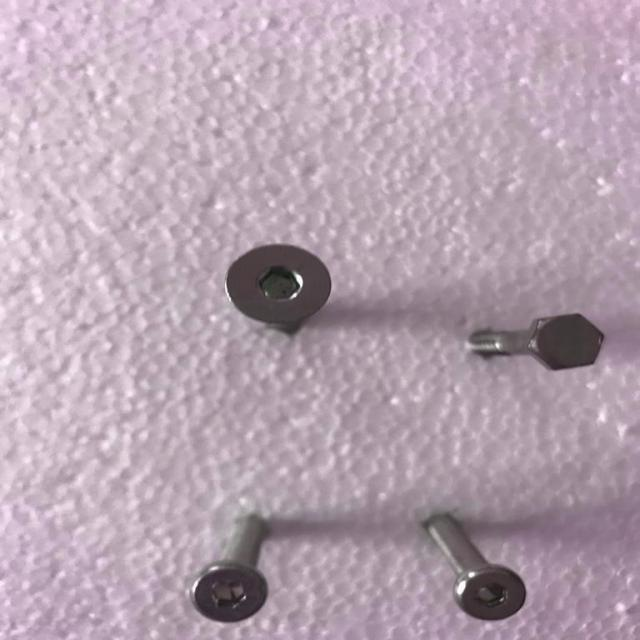HexScrew: (224, 243, 333, 323), (190, 563, 268, 622), (453, 566, 527, 622)
